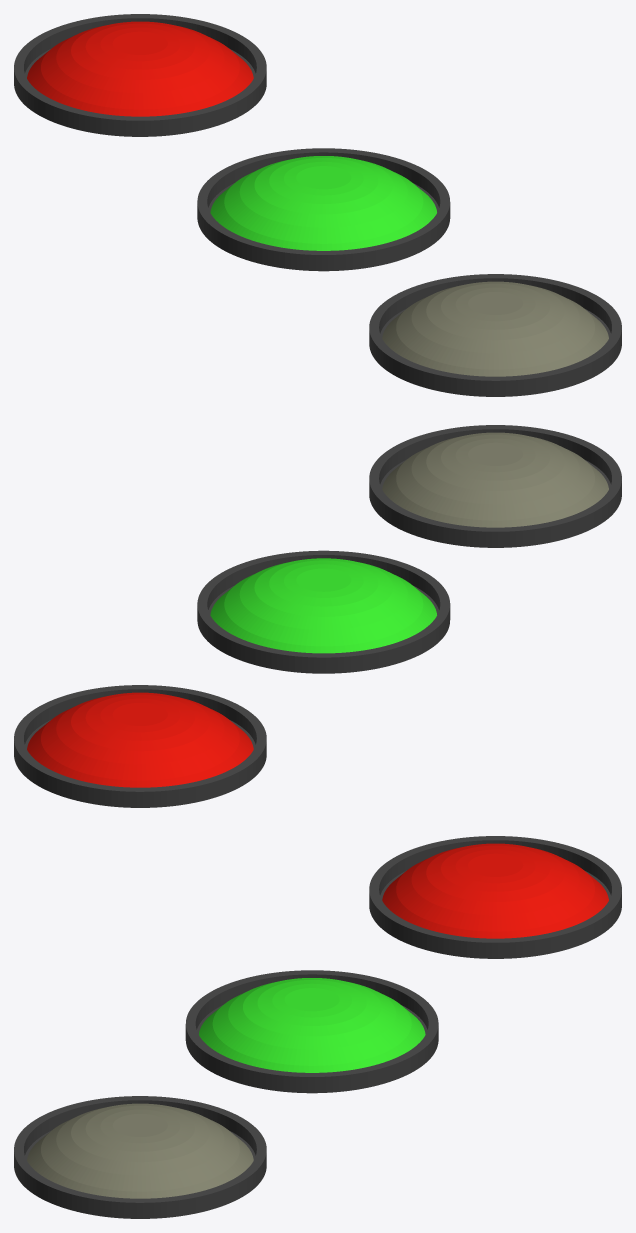
File: indicator lights.fbx
3 views of the same model, one above another, from view 1: azimuth 30°, elevation 25°; view 2: azimuth 150°, elevation 25°; view 3: azimuth 330°, elevation 25° (orthographic).
Visible parts, largest first — view 1: Circle.004, Circle.002, Circle, Circle.001, Circle.005, Circle.003; view 2: Circle, Circle.002, Circle.004, Circle.001, Circle.003, Circle.005; view 3: Circle.004, Circle.002, Circle, Circle.001, Circle.005, Circle.003.
Part boxes in pixels (x1,y1,x2,y2): Circle.004: (382, 281, 608, 376); Circle.002: (27, 21, 253, 116); Circle: (210, 156, 436, 250); Circle.001: (197, 148, 450, 271); Circle.005: (369, 274, 621, 396); Circle.003: (14, 14, 266, 136); Circle: (210, 558, 436, 653); Circle.002: (27, 692, 253, 787); Circle.004: (382, 432, 608, 527); Circle.001: (197, 550, 450, 673); Circle.003: (14, 685, 266, 807); Circle.005: (369, 425, 621, 547); Circle.004: (27, 1103, 253, 1198); Circle.002: (382, 843, 608, 938); Circle: (199, 978, 425, 1072); Circle.001: (185, 970, 438, 1093); Circle.005: (14, 1096, 266, 1218); Circle.003: (369, 836, 621, 958).
Size of the model in its own units: 200 by 35.01 by 762.
